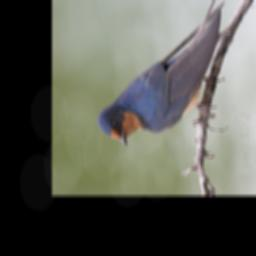Swallow: (91, 0, 232, 148)
